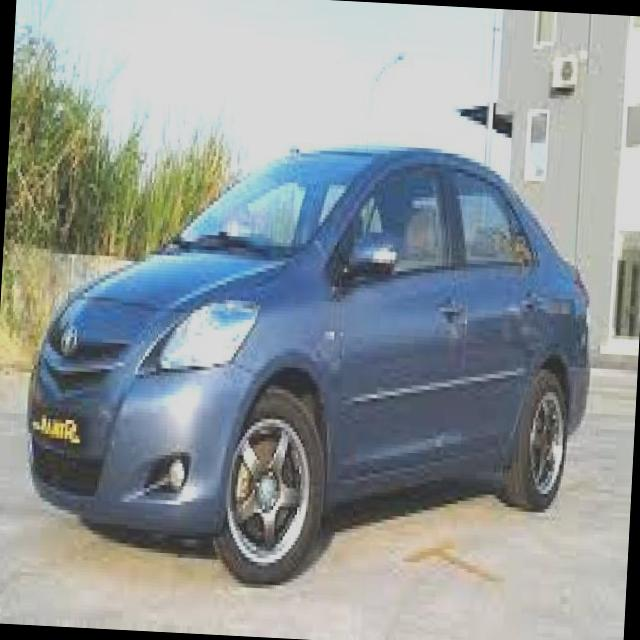ToyotaVios: (18, 125, 603, 602)
